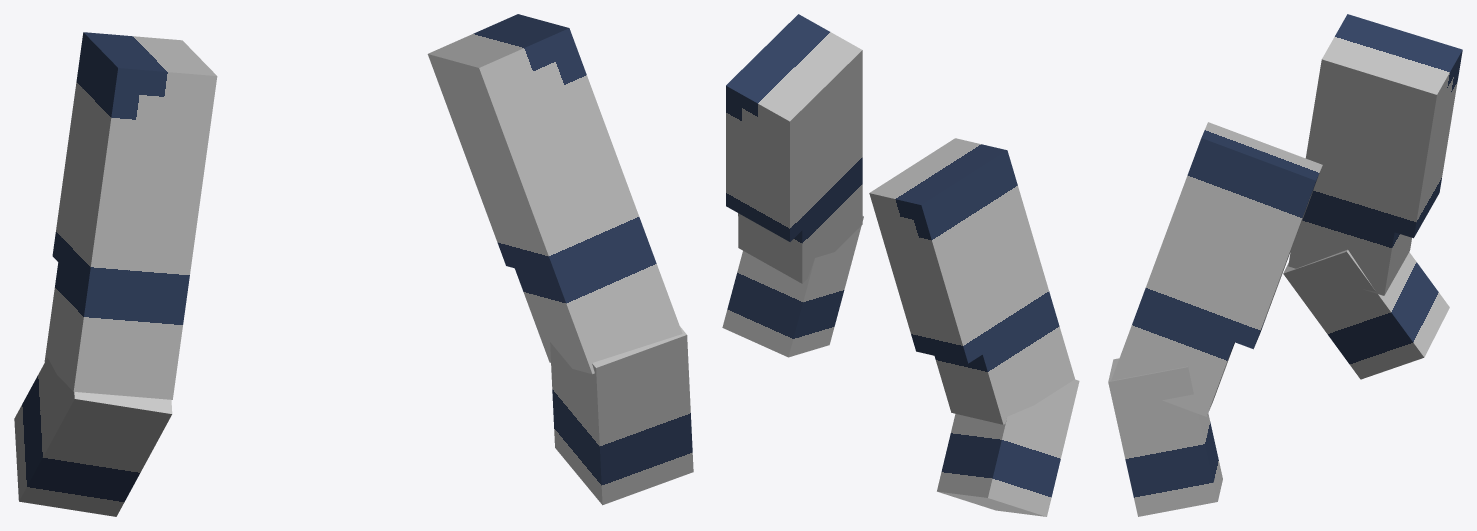
3 views of the same model, side by side, from view 1: azimuth 30°, elevation 25°; view 2: azimuth 150°, elevation 25°; view 3: azimuth 270°, elevation 25° (orthographic). The views are drawn at different scales.
Parts seen in each view (by area): view 1: Equip_Right_Arm-Local, Equip_Left_Arm-Local, Equip_Right_Forearm-Local, Equip_Left_Forearm-Local; view 2: Equip_Left_Arm-Local, Equip_Right_Arm-Local, Equip_Left_Forearm-Local, Equip_Right_Forearm-Local; view 3: Equip_Left_Arm-Local, Equip_Right_Arm-Local, Equip_Left_Forearm-Local, Equip_Right_Forearm-Local.
Part boxes in pixels (bbox=[...]): Equip_Right_Arm-Local: bbox=[427, 14, 682, 374]; Equip_Left_Arm-Local: bbox=[44, 32, 217, 399]; Equip_Right_Forearm-Local: bbox=[550, 326, 693, 505]; Equip_Left_Forearm-Local: bbox=[14, 357, 172, 516]; Equip_Left_Arm-Local: bbox=[869, 138, 1074, 424]; Equip_Right_Arm-Local: bbox=[726, 14, 862, 283]; Equip_Left_Forearm-Local: bbox=[937, 379, 1079, 516]; Equip_Right_Forearm-Local: bbox=[722, 216, 863, 357]; Equip_Left_Arm-Local: bbox=[1288, 14, 1462, 295]; Equip_Right_Arm-Local: bbox=[1111, 122, 1322, 416]; Equip_Left_Forearm-Local: bbox=[1283, 249, 1449, 379]; Equip_Right_Forearm-Local: bbox=[1108, 358, 1222, 516].
Size of the model in its own units: 23.43 by 20.45 by 17.36.
Materials: 4 (4 with a texture image).
